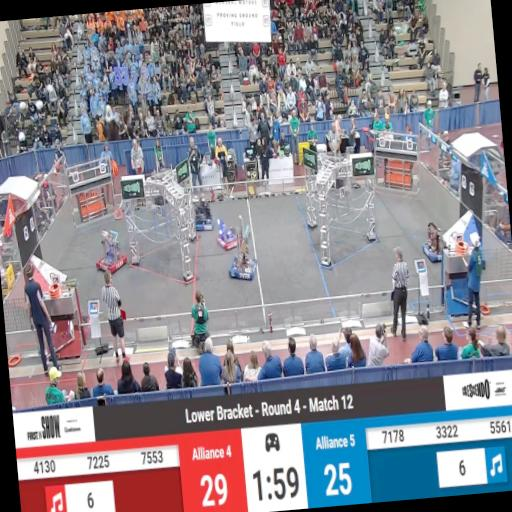robot: (95, 228, 129, 272), (226, 239, 258, 282), (420, 222, 448, 264), (216, 216, 243, 252), (192, 198, 216, 233)
